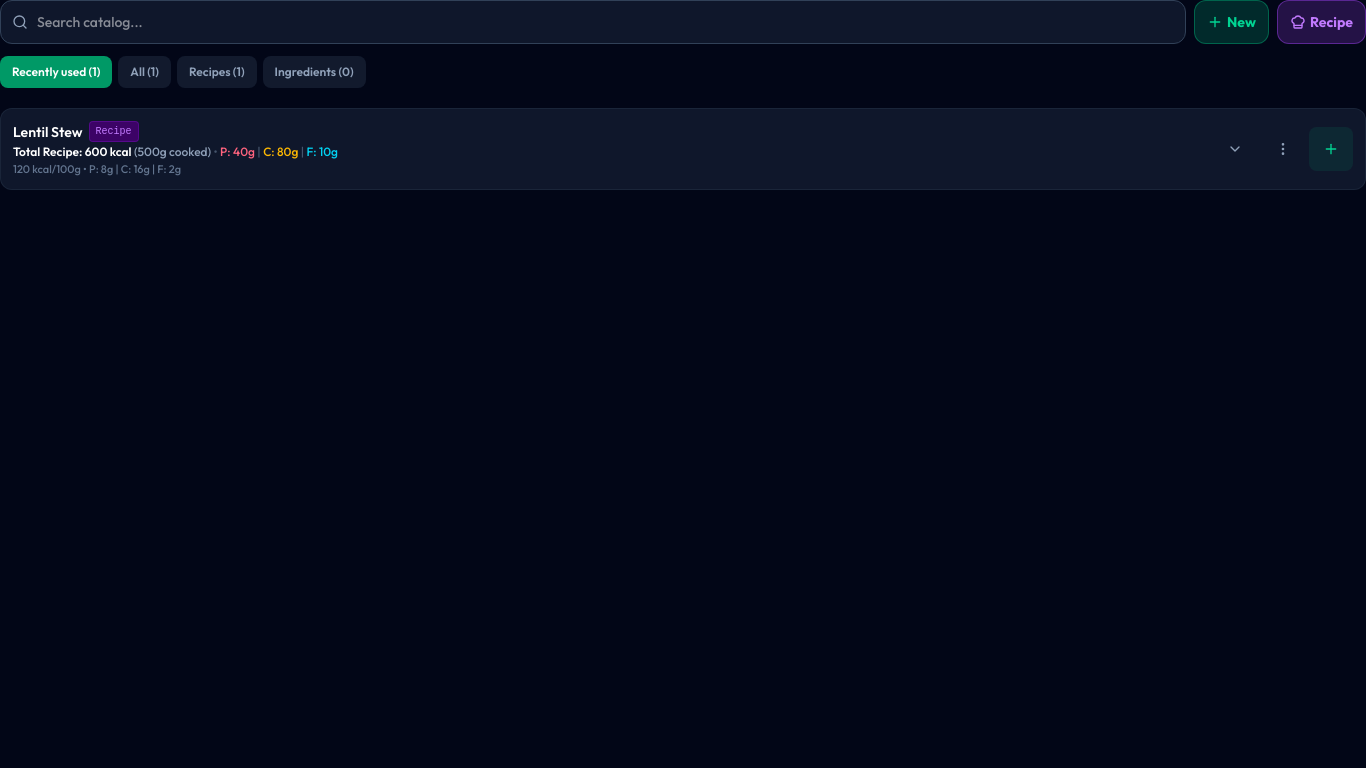
Test: CatalogManager - Recipes Integration › does not remove recipe when delete is cancelled in custom dialog
The image size is (1366, 768).
Click the button named "Item options".
click(1283, 149)  # box [1261,127,1305,171]
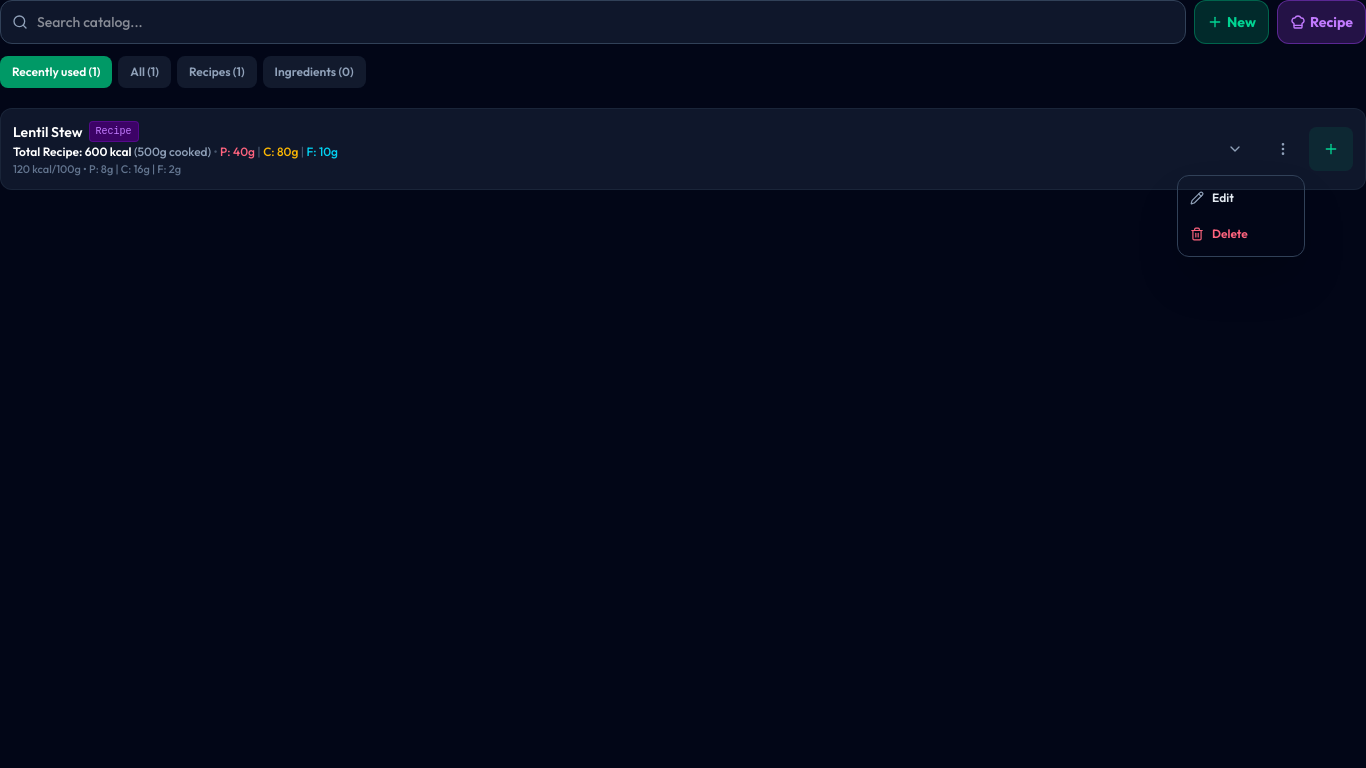
Click the menu item with aria-label "Delete recipe".
click(1241, 234)  # box [1178,216,1304,252]
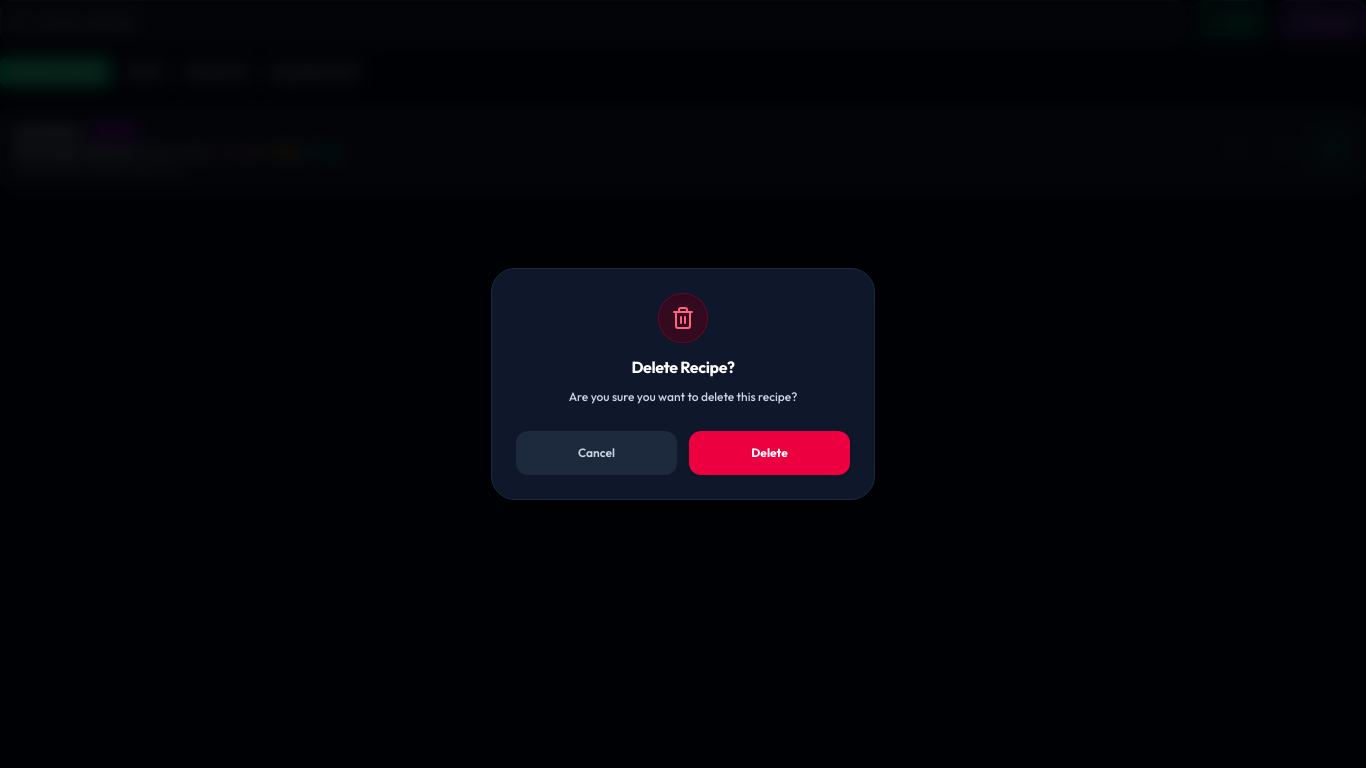
expect the dialog with test id "confirm-delete-dialog" is shown: met, box [491,268,875,500]
Click the button with test id "btn-cancel-delete".
click(596, 453)  # box [516,431,677,475]
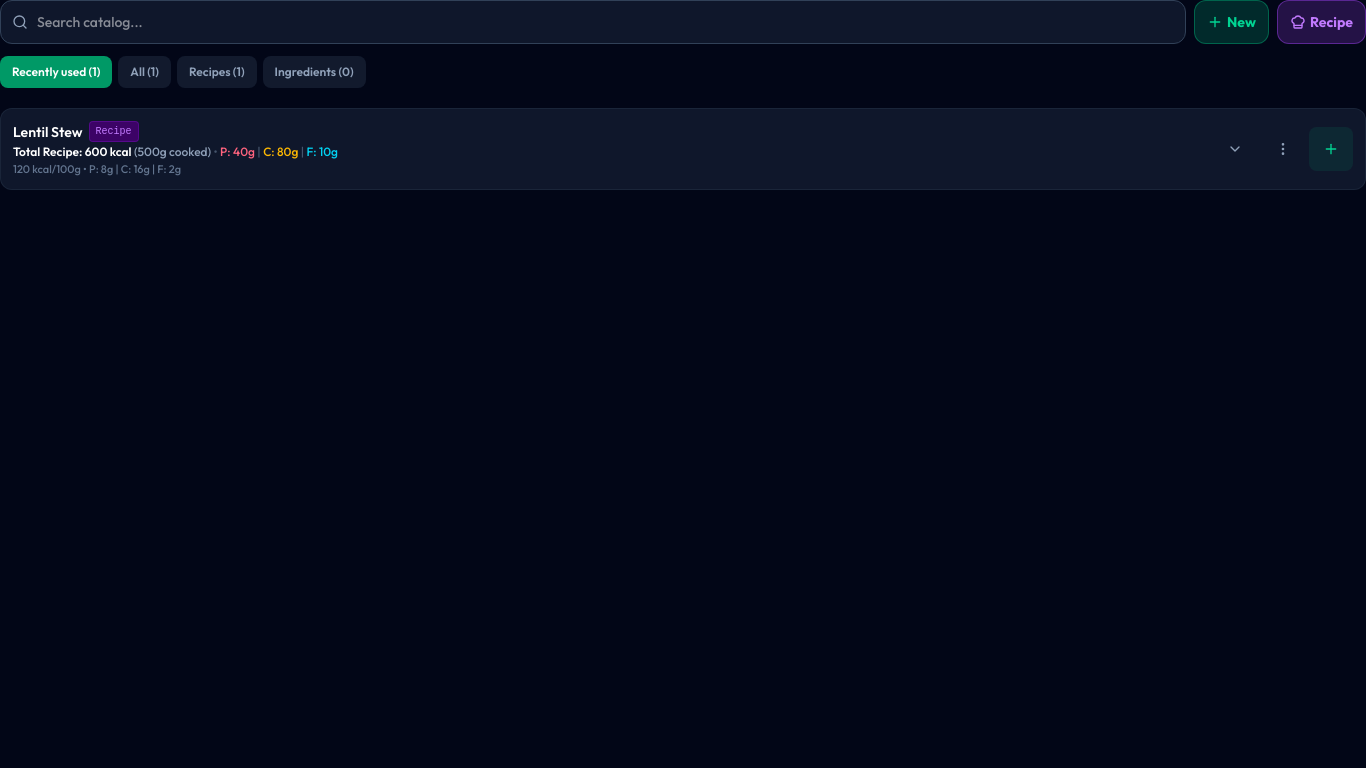
expect the dialog with test id "confirm-delete-dialog" is gone: met
